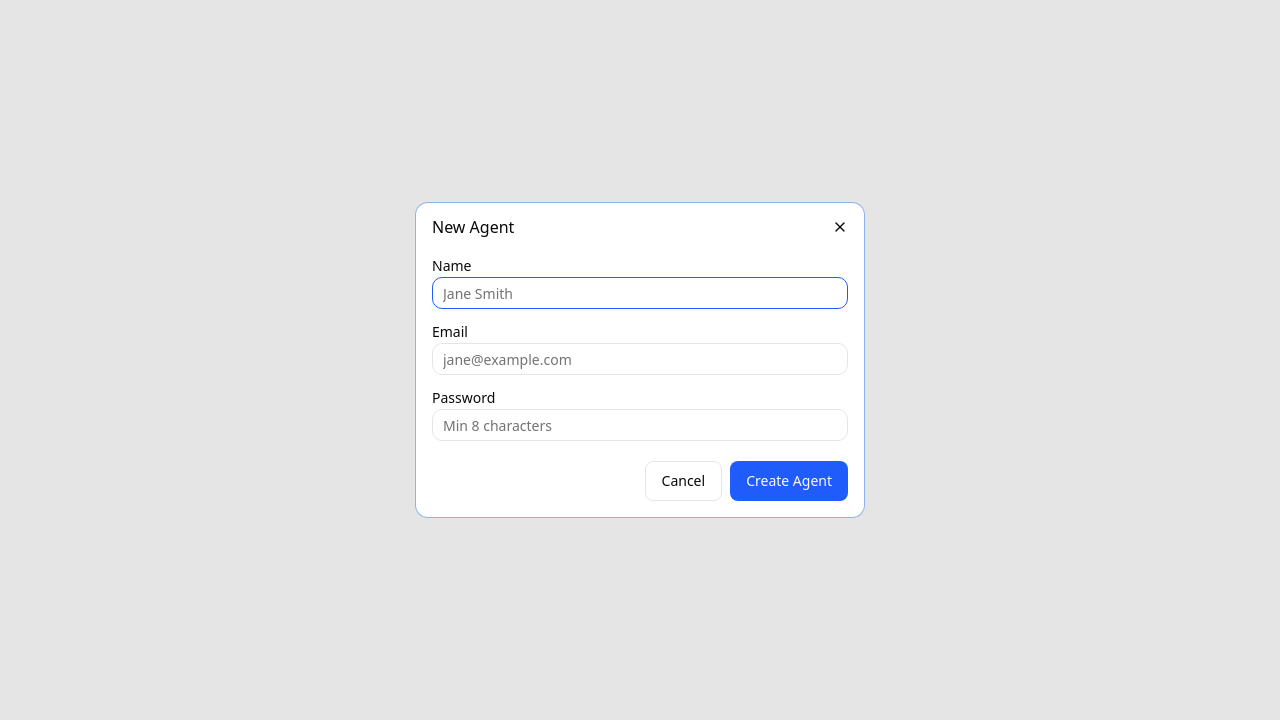
it: CreateUserModal › validation › shows 'Name is required' for an empty name on submit
Click the button "Create Agent" at (789, 481), box [730, 461, 848, 501]
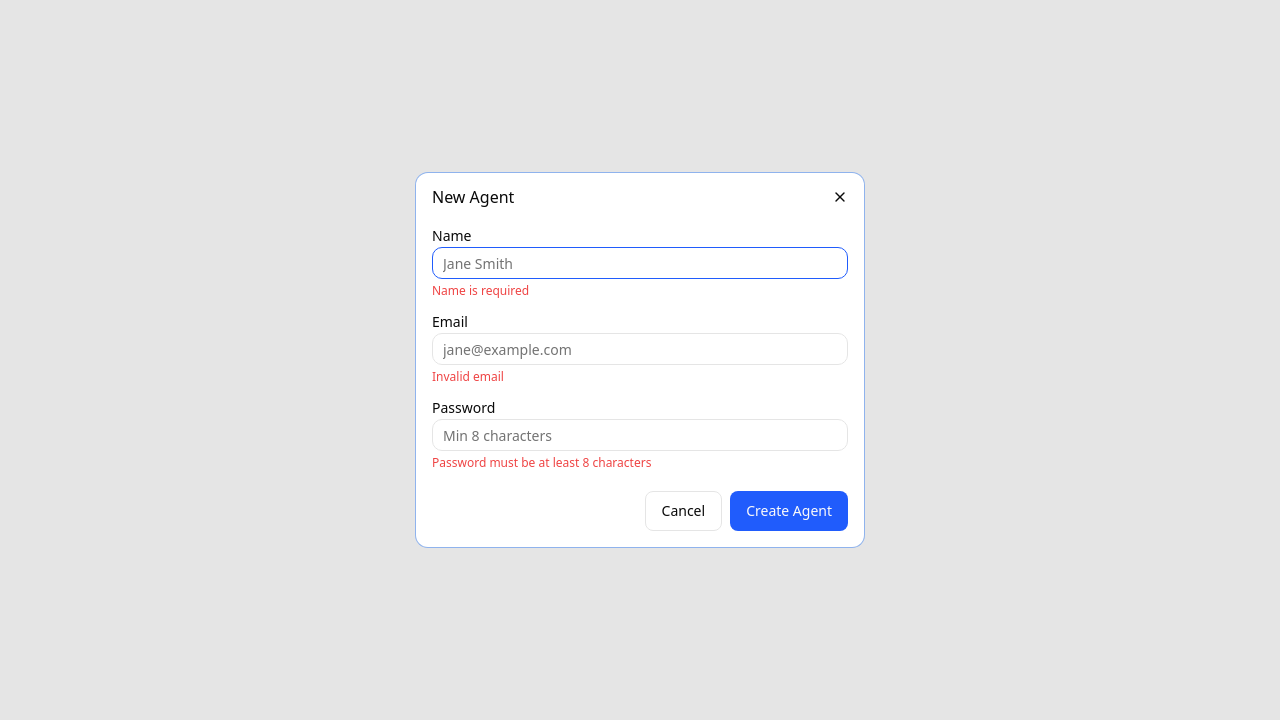
Expected: the text "Name is required" is shown, [432, 282, 529, 299]
